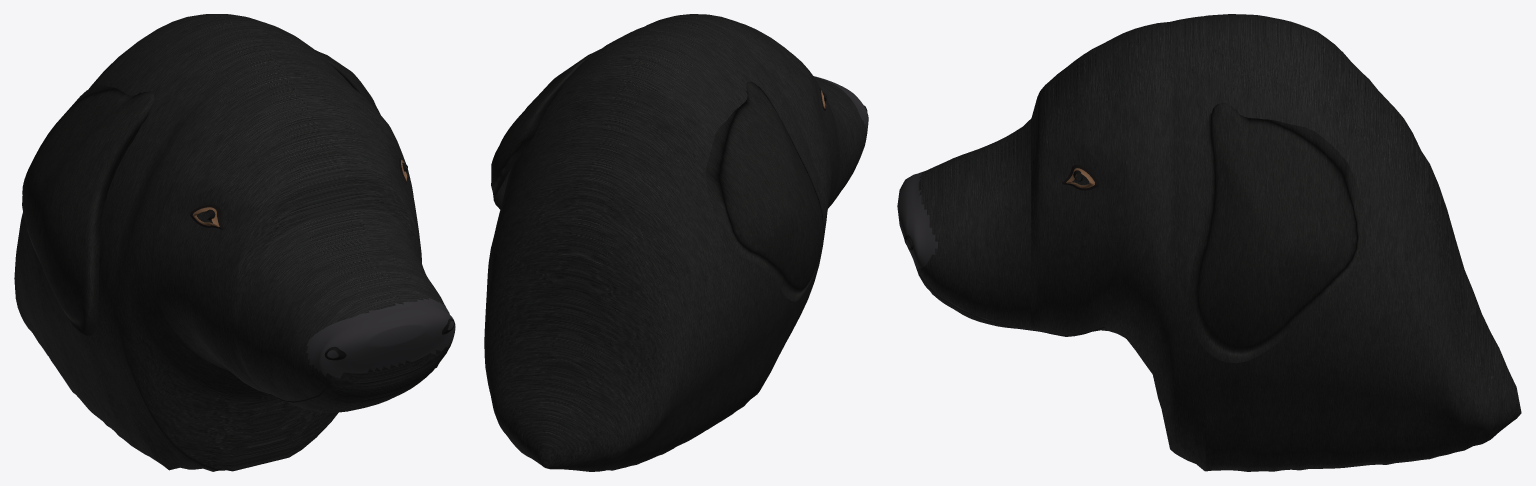
File: labrador_head.glb
3 renders of one model, left to right at view 1: azimuth 30°, elevation 25°; view 2: azimuth 150°, elevation 25°; view 3: azimuth 270°, elevation 25°, orthographic. The views are drawn at different scales.
Visible parts, largest first — view 1: labrador_head; view 2: labrador_head; view 3: labrador_head.
Part boxes in pixels (box(x1,y1,x2,y2)): labrador_head: box(14, 14, 455, 471); labrador_head: box(484, 14, 868, 471); labrador_head: box(897, 14, 1521, 471).
Size of the model in its own units: 0.1992 by 0.2284 by 0.3149.
Materials: 7 (2 with a texture image).
